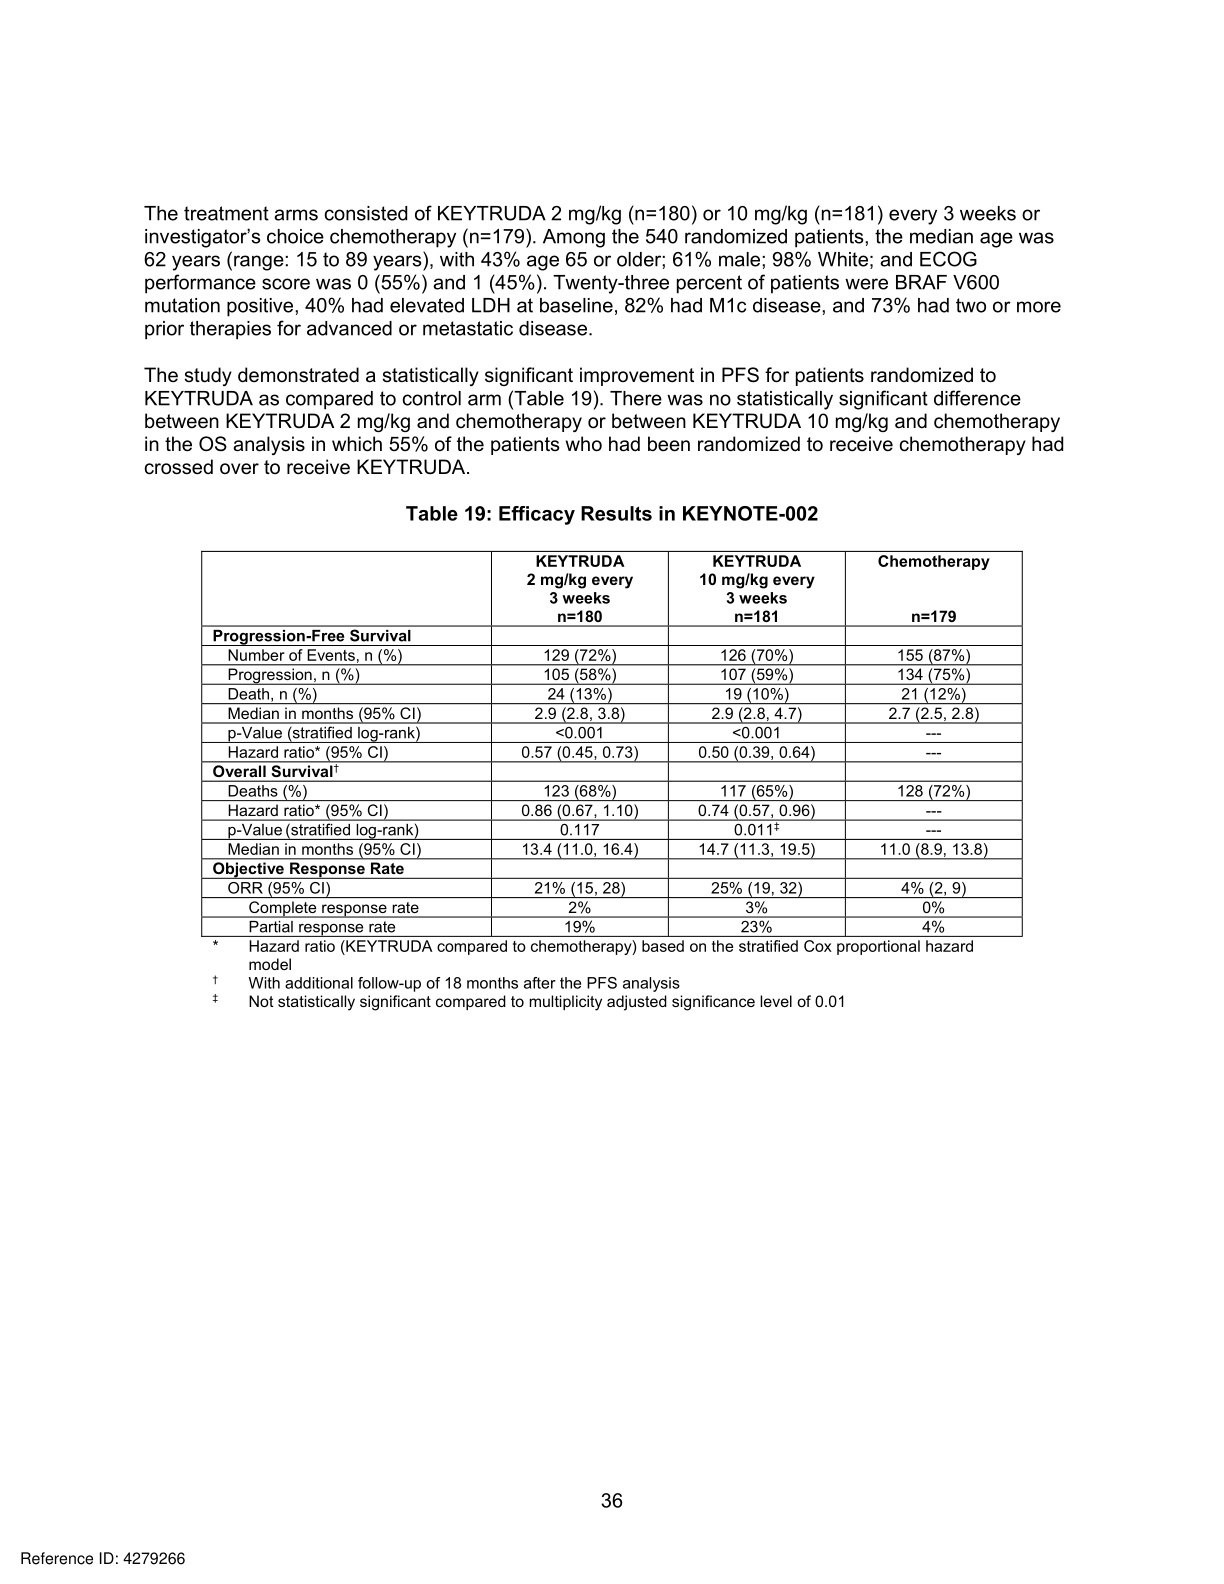full_lined: (195, 544, 1032, 941)
